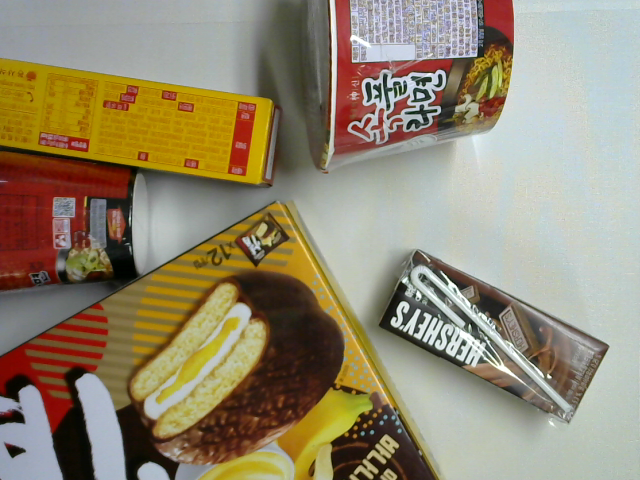Choco_Pie_Banana: (1, 197, 450, 480)
Hejangpul: (298, 1, 516, 178)
Hush_Choco_Drink: (375, 246, 611, 426)
Ritz_Sand_Cracker: (1, 54, 283, 190)
Sinramen_small: (1, 146, 151, 298)
